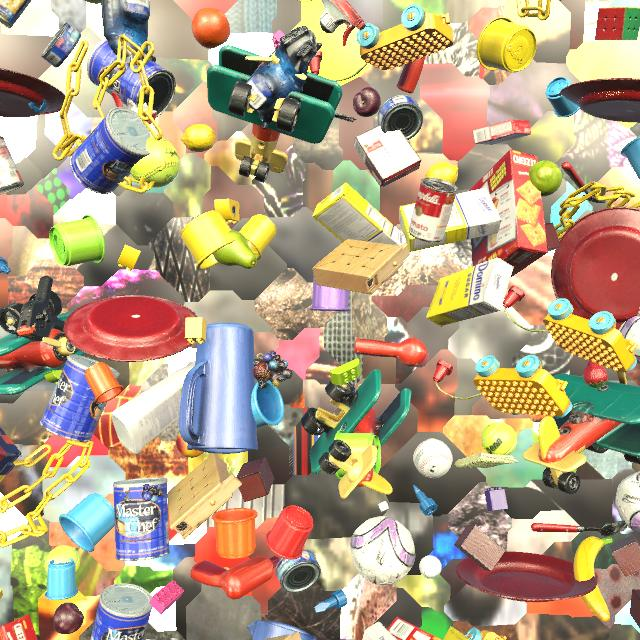ycb_002_master_chef_can: (70, 107, 153, 194), (40, 354, 120, 442), (87, 38, 176, 117), (113, 477, 170, 561), (90, 583, 152, 640)
ycb_003_cracker_box: (469, 149, 548, 277), (387, 617, 442, 640), (0, 615, 38, 640)
ycb_004_sugar_box: (399, 187, 501, 252), (312, 182, 407, 246), (426, 258, 514, 327), (362, 621, 397, 640), (443, 626, 471, 640)
ycb_005_tomato_soup_can: (409, 177, 458, 243), (0, 136, 24, 195)
ycb_007_tuna_fish_can: (378, 95, 423, 140), (275, 549, 321, 593), (41, 22, 81, 68)
ycb_008_pudding_box: (353, 125, 421, 188)
ycb_009_gelatin_box: (473, 119, 531, 145)
ycb_010_potted_meat_can: (0, 0, 32, 29)
ycb_011_banana: (574, 537, 613, 622)
ycb_012_strawberry: (583, 360, 608, 388)
ycb_014_lemon: (181, 124, 216, 152), (425, 162, 458, 184)
ycb_015_peach: (176, 433, 204, 458)
ycb_016_pear: (213, 230, 257, 269), (529, 160, 562, 197)
ycb_017_orange: (192, 8, 230, 49)
ycb_018_plum: (53, 602, 84, 634), (353, 87, 381, 117)
